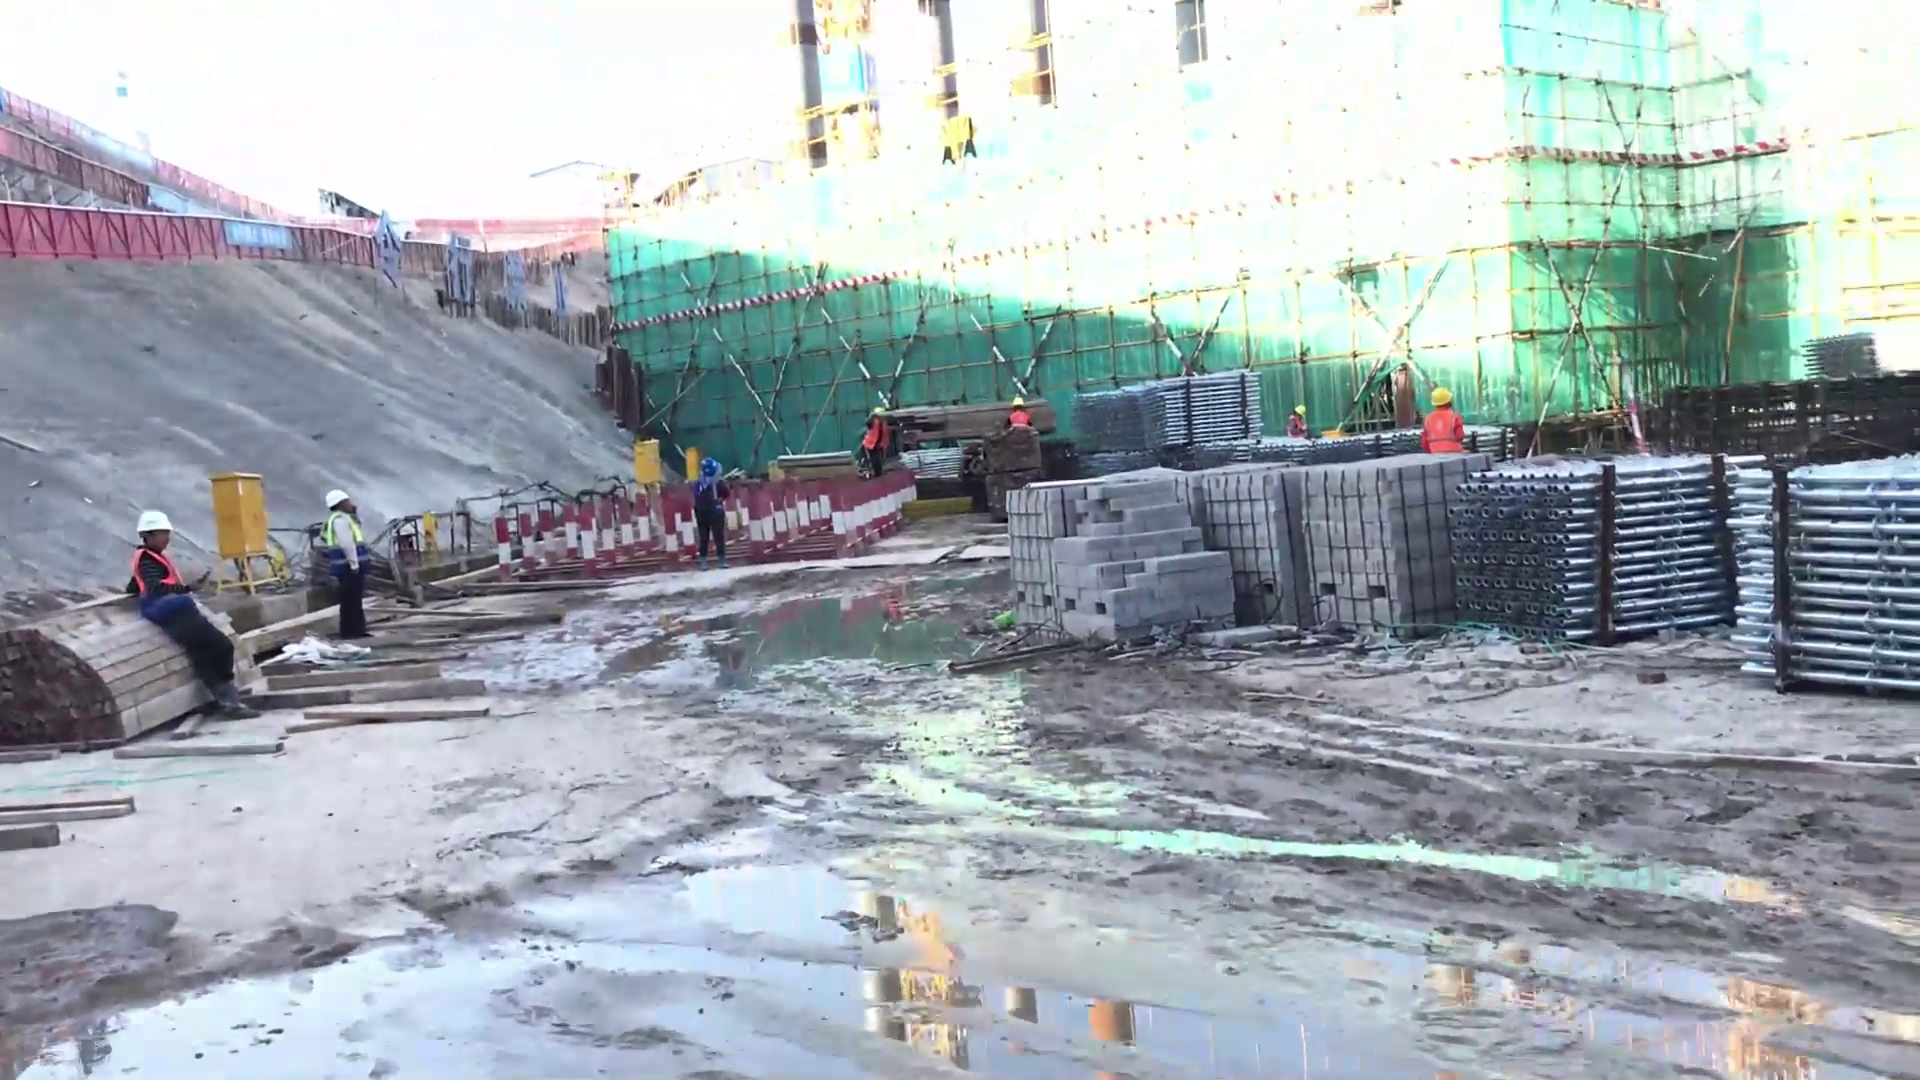brick: (1000, 464, 1443, 642)
ebox: (209, 475, 271, 564), (627, 433, 667, 486)
fence: (11, 194, 366, 265)
helmet: (127, 501, 175, 547), (320, 488, 351, 525), (691, 449, 720, 477), (1426, 385, 1454, 409), (866, 404, 887, 420), (1008, 395, 1024, 414), (1292, 397, 1306, 409)
hook: (930, 101, 983, 171)
person: (120, 504, 260, 722), (313, 476, 382, 643), (681, 459, 744, 571), (1418, 385, 1469, 455), (859, 402, 893, 471), (1278, 394, 1310, 440), (1000, 394, 1032, 432)
scaffold: (1486, 474, 1905, 700), (1048, 378, 1264, 463)
vest: (134, 554, 189, 611), (328, 527, 373, 583), (1427, 409, 1462, 452), (692, 480, 726, 513), (863, 423, 888, 459), (1004, 413, 1030, 430), (1283, 416, 1304, 437)
wood: (3, 614, 129, 736)
